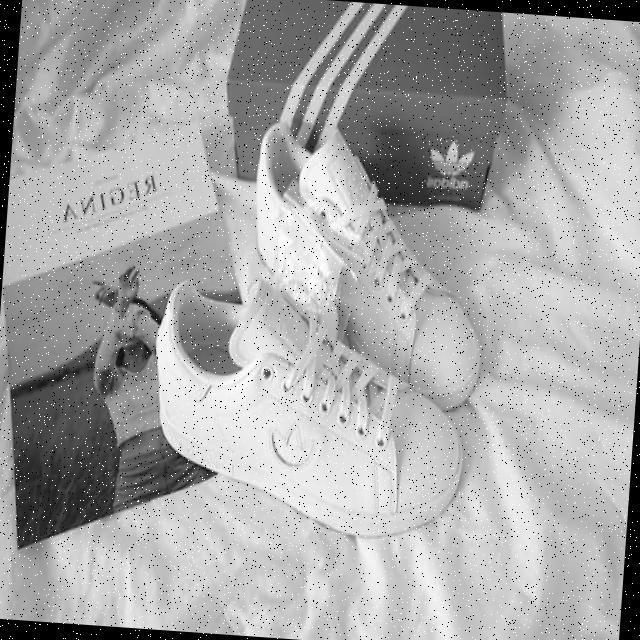Adidas: (419, 134, 481, 196)
